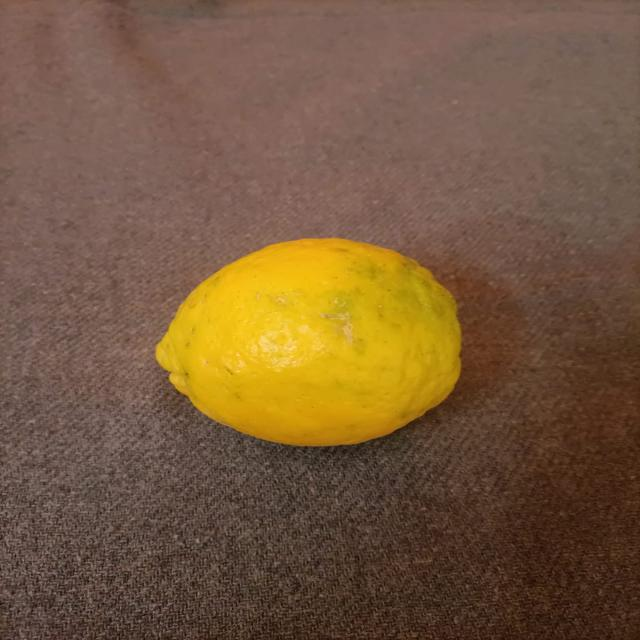orange: (66, 171, 560, 546)
